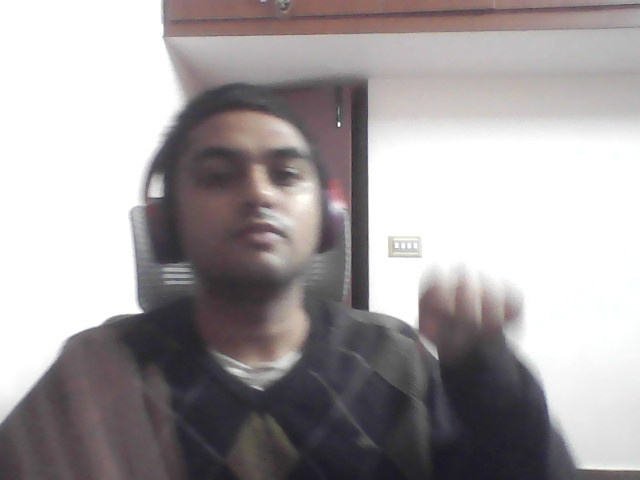Yes: (399, 232, 559, 409)
